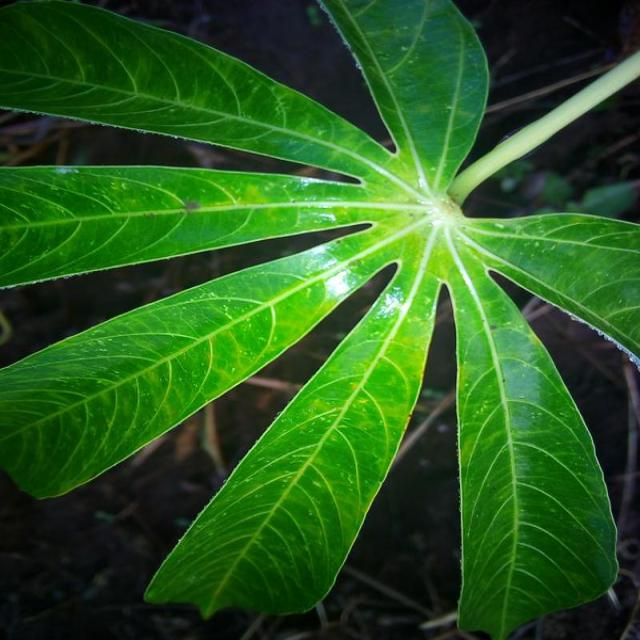cassava leaf: (0, 0, 638, 635), (142, 242, 440, 621), (445, 229, 619, 638)
